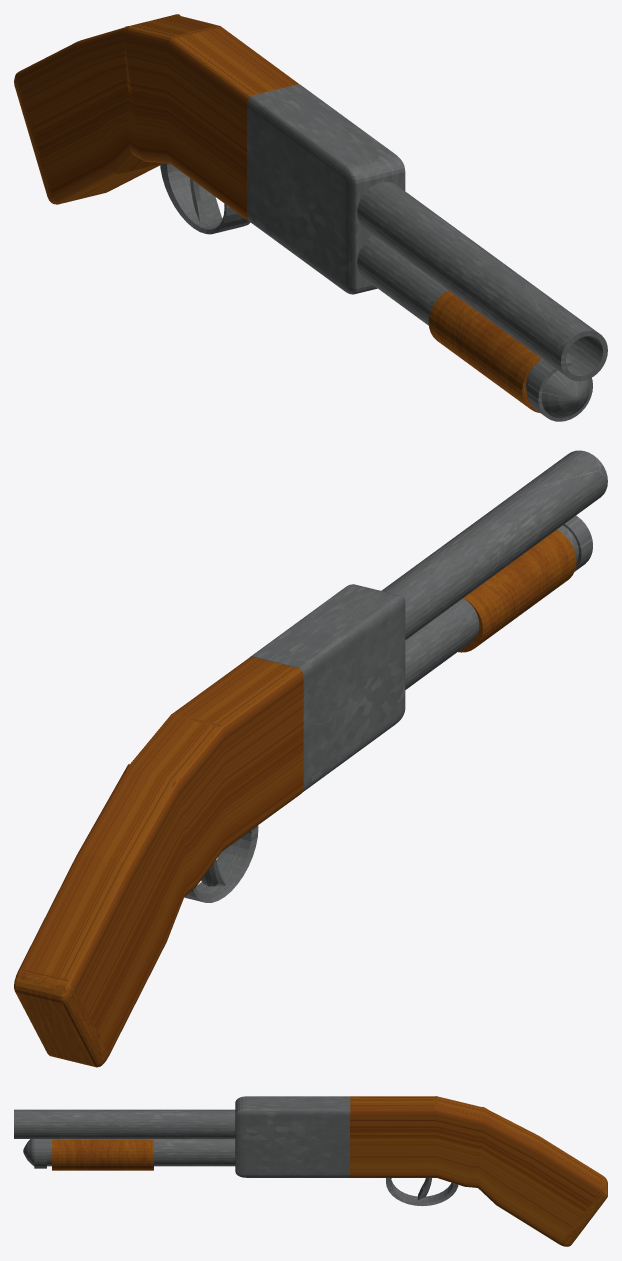
The model's file is shotgun.glb.
3 views of the same model, one above another, from view 1: azimuth 30°, elevation 25°; view 2: azimuth 150°, elevation 25°; view 3: azimuth 270°, elevation 25° (orthographic). The views are drawn at different scales.
Parts seen in each view (by area): view 1: Stock, Housing, Barrel, Magazine, Slide, Trigger Guard, Trigger; view 2: Stock, Housing, Barrel, Slide, Magazine, Trigger Guard; view 3: Stock, Housing, Barrel, Slide, Magazine, Trigger Guard.
Part boxes in pixels (x1,y1,x2,y2): Stock: (14, 14, 298, 221); Housing: (247, 84, 405, 294); Barrel: (357, 182, 607, 381); Magazine: (357, 235, 592, 421); Slide: (428, 290, 541, 412); Trigger Guard: (160, 163, 250, 234); Trigger: (190, 178, 221, 222); Stock: (14, 656, 303, 1067); Housing: (250, 584, 405, 792); Barrel: (381, 450, 607, 639); Slide: (458, 529, 576, 652); Magazine: (405, 515, 592, 689); Trigger Guard: (184, 825, 258, 902); Stock: (350, 1096, 607, 1246); Housing: (235, 1096, 350, 1177); Barrel: (14, 1109, 235, 1138); Slide: (52, 1139, 153, 1170); Magazine: (23, 1139, 235, 1168); Trigger Guard: (386, 1178, 458, 1206).
Size of the model in its own units: 0.3541 by 1.51 by 5.9.
2 materials, 2 textured.
